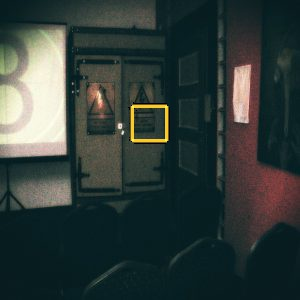square: (129, 102, 170, 144)
